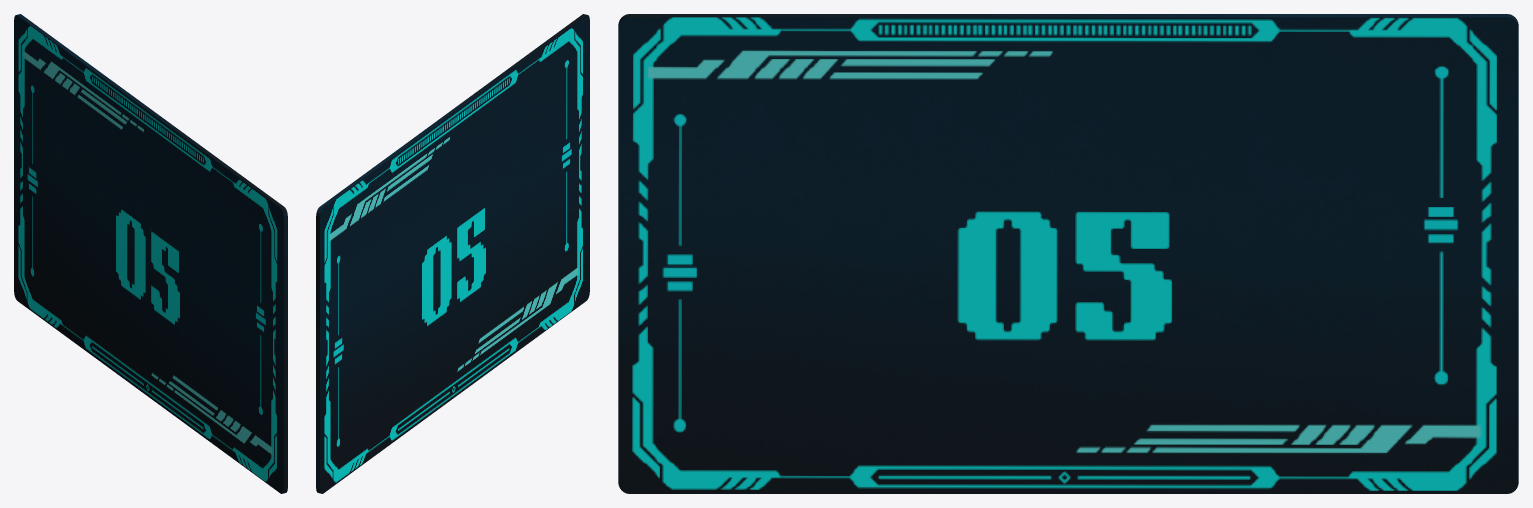
Rendered from keycard5.fbx.
3 renders of one model, left to right at view 1: azimuth 30°, elevation 25°; view 2: azimuth 150°, elevation 25°; view 3: azimuth 270°, elevation 25°, orthographic. The views are drawn at different scales.
Parts seen in each view (by area): view 1: keycard1; view 2: keycard1; view 3: keycard1.
Boxes of the visible parts, box(x1,y1,x2,y2) form: keycard1: box(14, 14, 287, 493); keycard1: box(316, 14, 589, 493); keycard1: box(618, 14, 1518, 493).
Size of the model in its own units: 0.2276 by 15.72 by 26.91.
